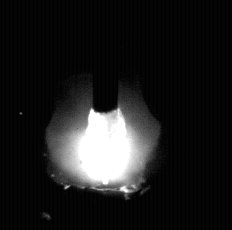arame: (93, 0, 119, 113)
poca: (46, 0, 158, 230)
